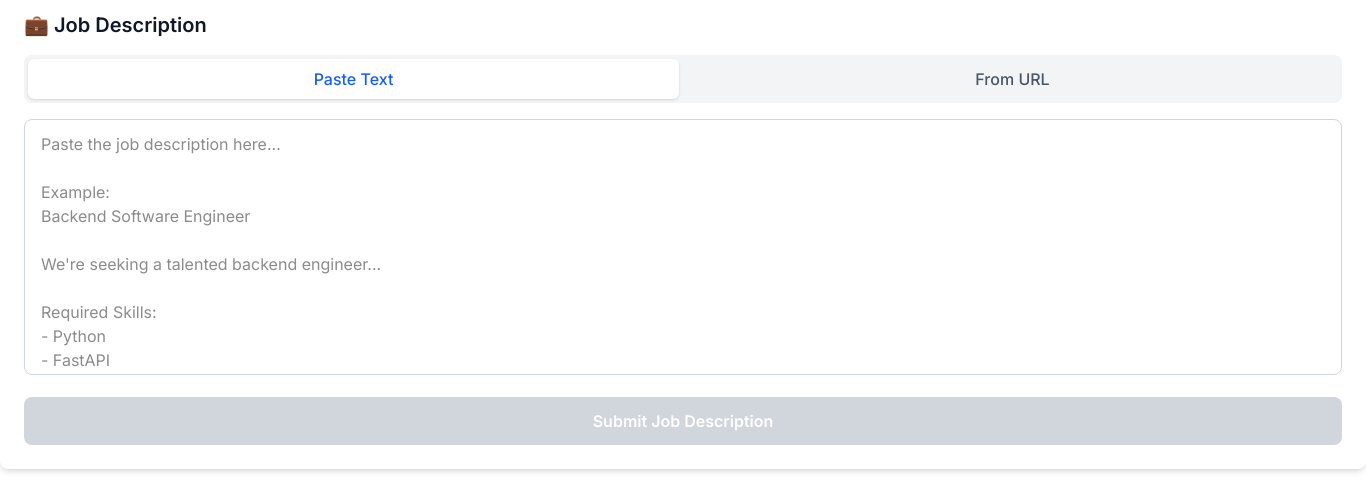
Test case: JobDescriptionInput › disables submit until there is input
Expected: the button "Submit Job Description" is disabled, [24,397,1342,445]
In the text box: (683, 247) [24,119,1342,375], type "anything"
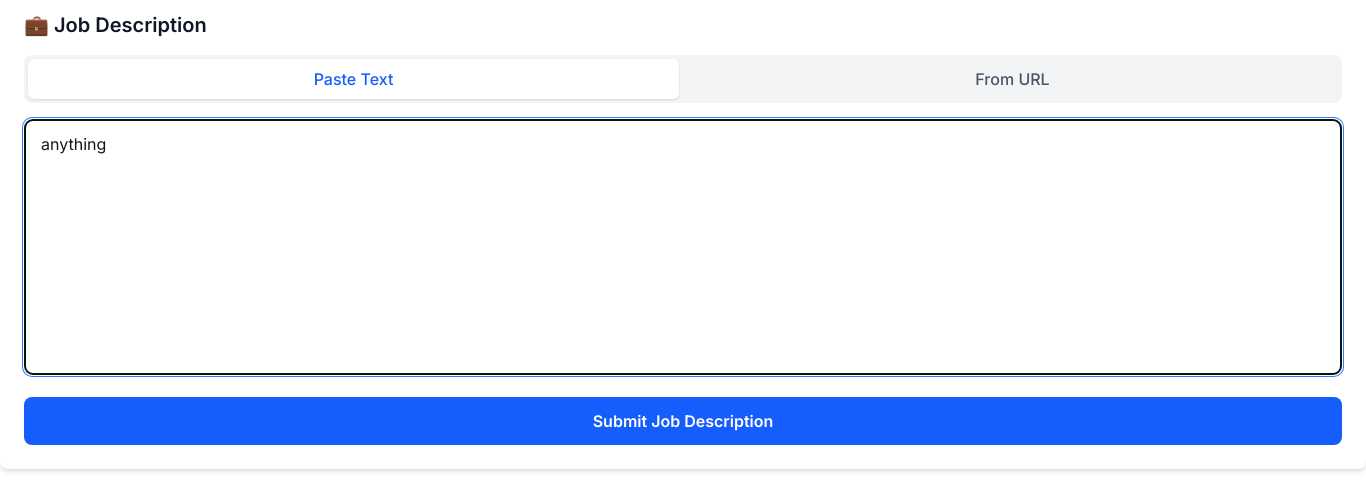
Result: the button "Submit Job Description" is enabled at [24,397,1342,445]
